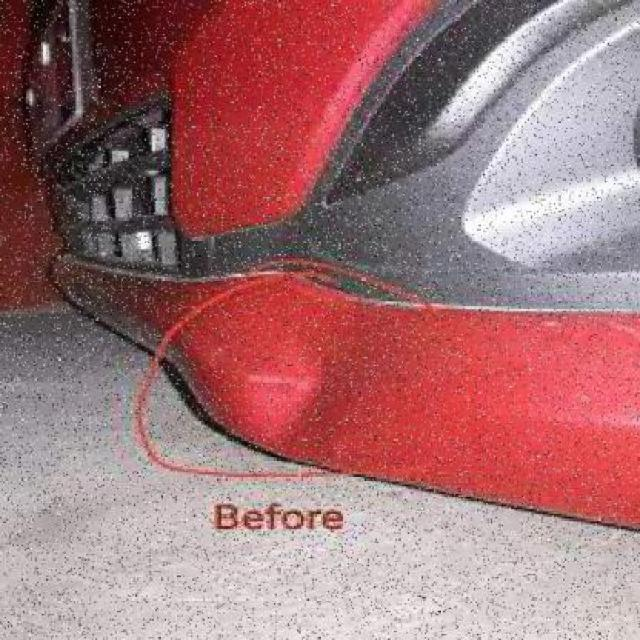front-bumper-dent: (11, 216, 638, 530)
